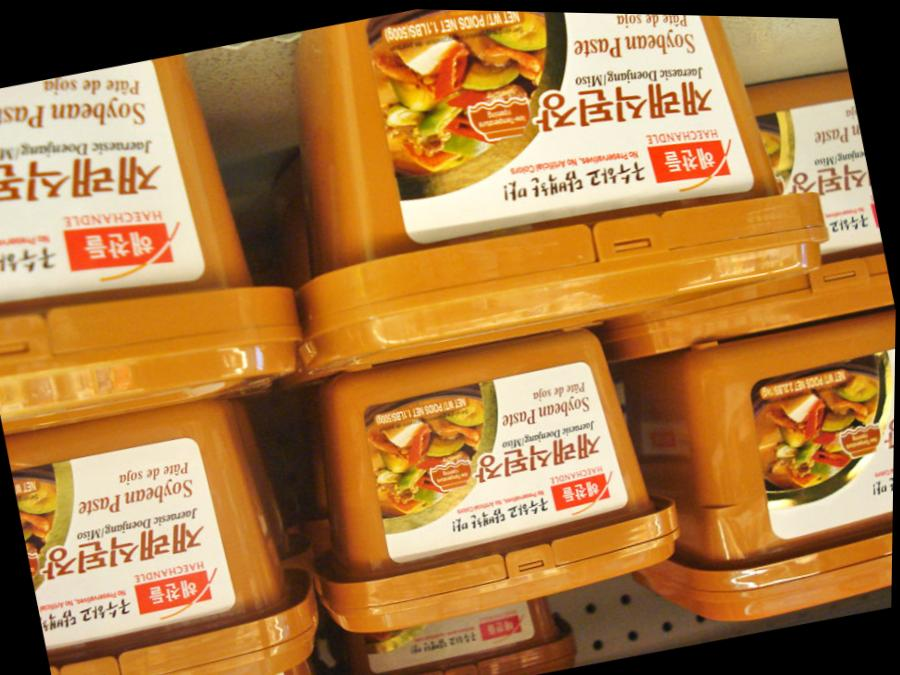plastic: (297, 12, 889, 375), (0, 37, 307, 462), (317, 330, 677, 672), (626, 264, 893, 620), (5, 399, 316, 674), (747, 71, 879, 253), (350, 598, 575, 674)
